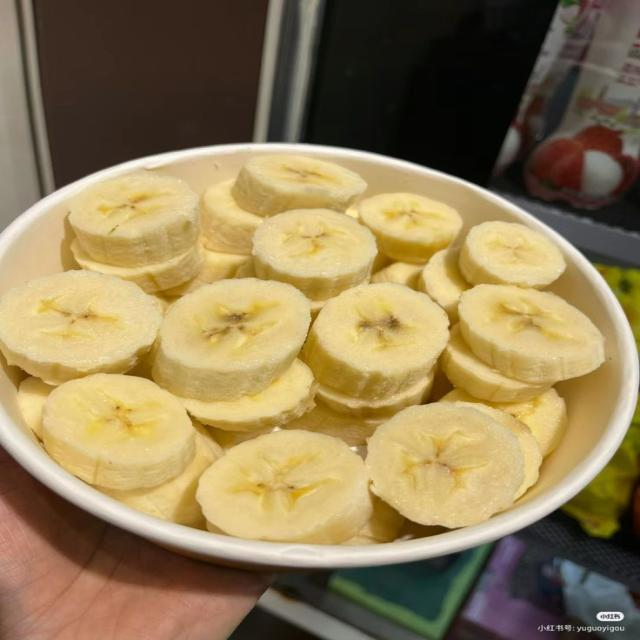banana slice: (197, 431, 372, 544), (366, 403, 523, 527), (153, 279, 310, 401), (0, 271, 162, 384), (42, 374, 195, 489), (304, 283, 448, 399), (459, 285, 604, 385), (95, 423, 223, 529), (69, 173, 199, 267), (254, 209, 377, 300), (181, 359, 316, 431), (454, 402, 542, 499), (441, 389, 567, 456), (232, 155, 366, 216), (440, 325, 547, 401), (359, 193, 461, 264), (71, 239, 203, 293), (460, 221, 566, 288), (316, 367, 434, 418), (282, 402, 388, 446), (201, 180, 263, 255), (163, 248, 252, 297), (417, 248, 469, 323), (343, 496, 405, 545), (18, 377, 55, 439), (207, 427, 273, 451), (371, 262, 421, 289), (127, 340, 158, 379), (430, 356, 453, 401), (372, 244, 393, 273), (152, 292, 174, 314), (234, 258, 256, 278), (310, 301, 327, 320), (345, 205, 359, 220)
